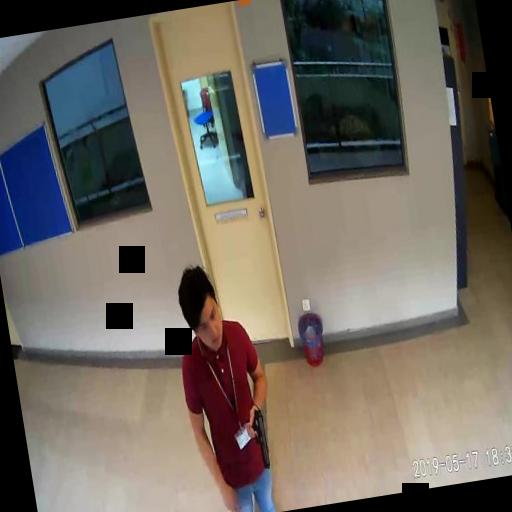Handgun: (243, 406, 269, 470)
